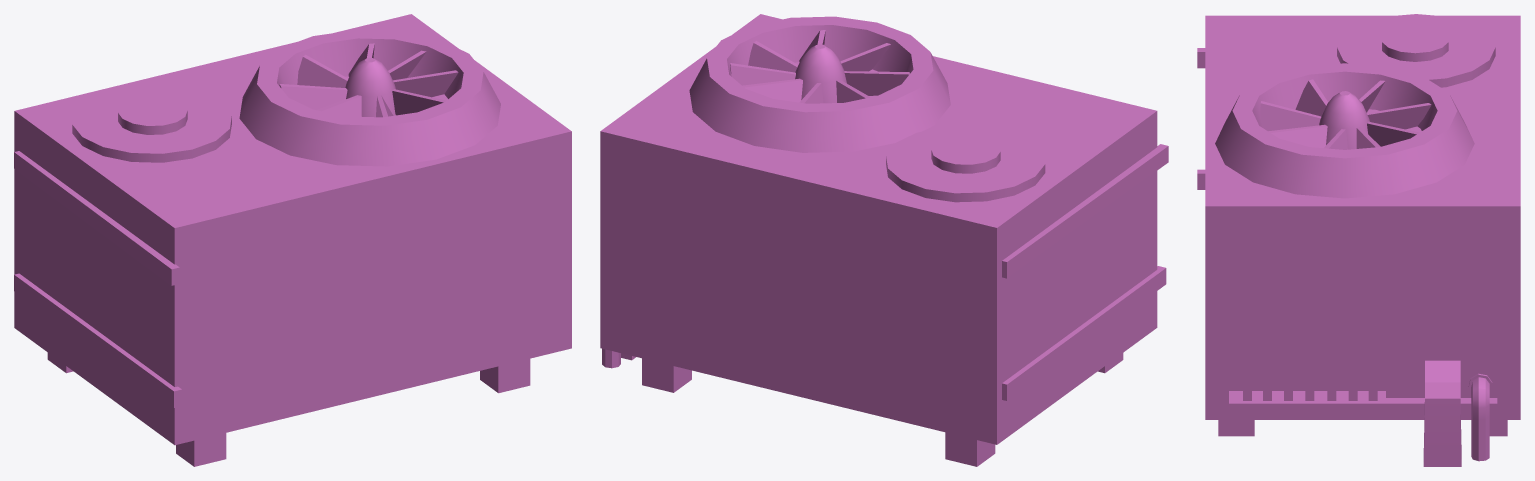
The model's file is AirCon.fbx.
The picture shows the model from 3 angles, left to right: view 1: azimuth 30°, elevation 25°; view 2: azimuth 150°, elevation 25°; view 3: azimuth 270°, elevation 25°; orthographic projection.
Visible parts, largest first — view 1: AirCon; view 2: AirCon; view 3: AirCon.
Part boxes in pixels (x1=…): AirCon: x1=14, y1=14, x2=571, y2=466; AirCon: x1=600, y1=14, x2=1168, y2=466; AirCon: x1=1197, y1=14, x2=1520, y2=466.
Bounding box in the file's own units: 271 × 181 × 178.
